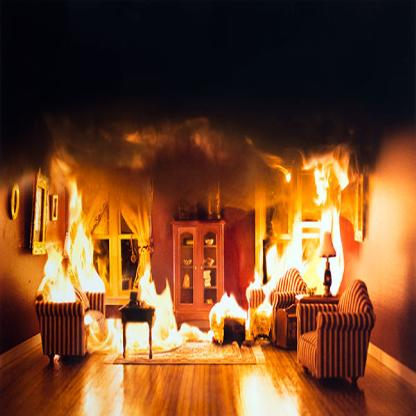fire: (30, 158, 356, 368)
smoke: (2, 3, 416, 188)
